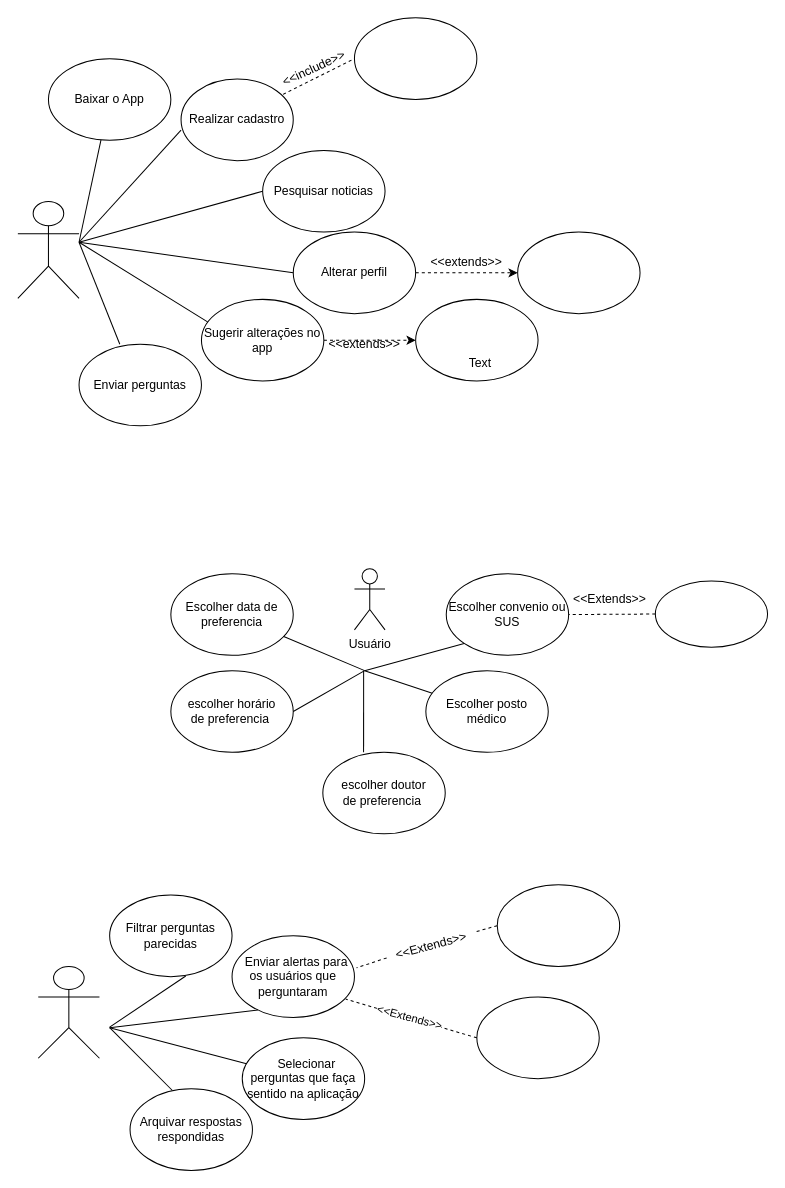
Some shapes in this 785 by 1188 pixel diagram are drawn without their labels. Here are the shapes that lost their labels. From the top down, the box of each, then its label:
(353, 17, 477, 99): Validar o usuário por e-mail
(17, 200, 79, 298): usuario
(517, 231, 640, 314): incluir informações adicionais
(415, 298, 538, 381): Detalhar bugs recorrentes
(654, 580, 768, 647): Adicionar numero de carteira
(496, 884, 620, 966): por email
(37, 965, 99, 1058): Desenvolvedor
(476, 996, 599, 1079): por sms ou app de mensagens
